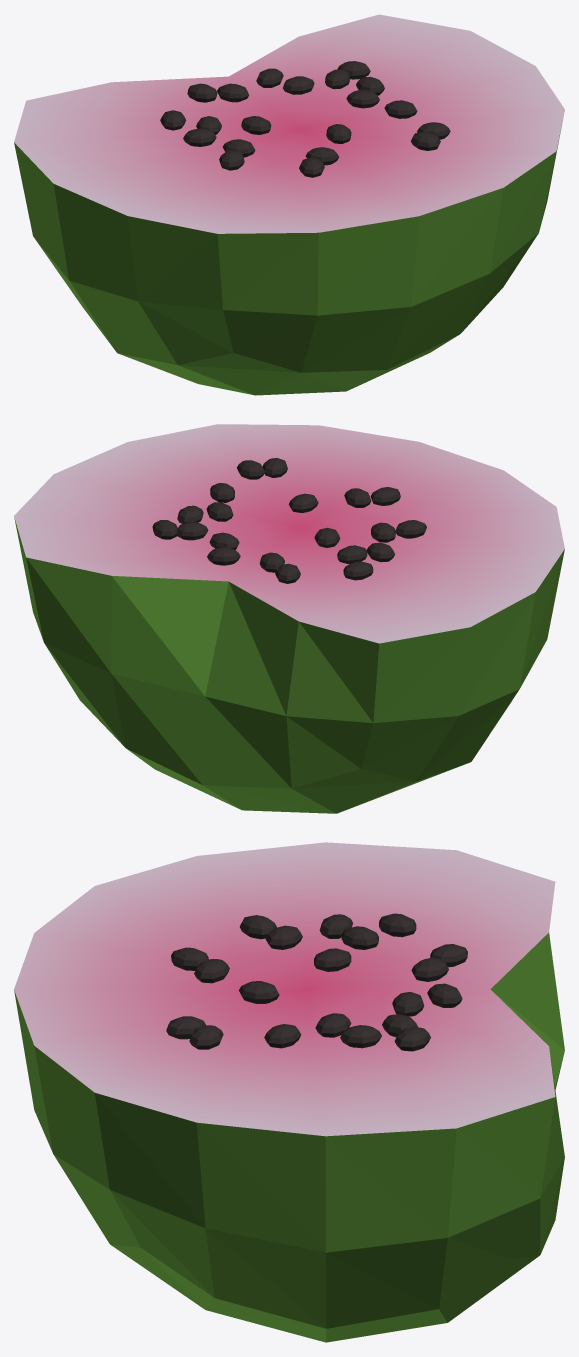
The model's file is Guava_Cut.glb.
3 renders of one model, top to bottom at view 1: azimuth 30°, elevation 25°; view 2: azimuth 150°, elevation 25°; view 3: azimuth 270°, elevation 25°, orthographic. The views are drawn at different scales.
Parts seen in each view (by area): view 1: Guava_Cut; view 2: Guava_Cut; view 3: Guava_Cut.
Boxes of the visible parts, <box> form: Guava_Cut: <box>14,14,564,395</box>; Guava_Cut: <box>14,424,564,813</box>; Guava_Cut: <box>14,842,564,1342</box>.
Bounding box in the file's own units: 0.32 × 0.1686 × 0.2535.
